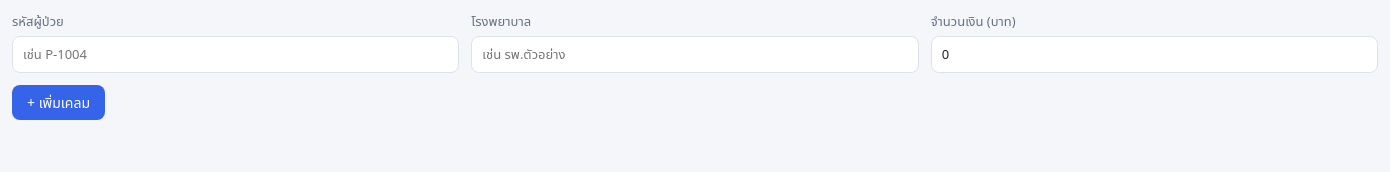
Test: ClaimForm › จำนวนเงิน 0 ไม่ผ่าน validation
In the field labelled "รหัสผู้ป่วย": (236, 54) [12,36,459,73], type "P-1"
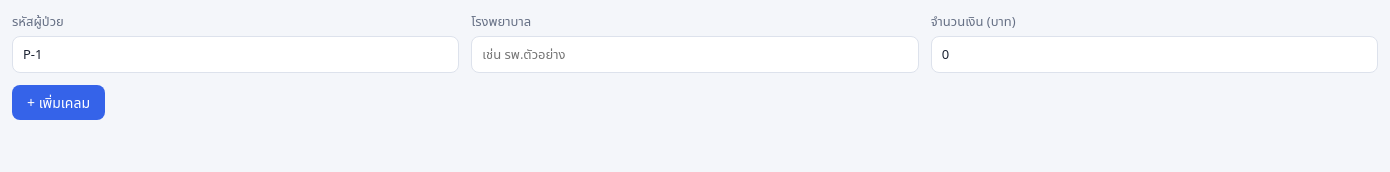
In the field labelled "โรงพยาบาล": (695, 54) [471,36,919,73], type "รพ."
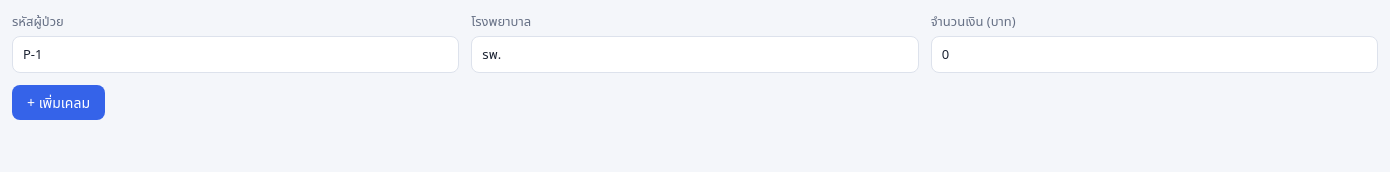
Submit the form
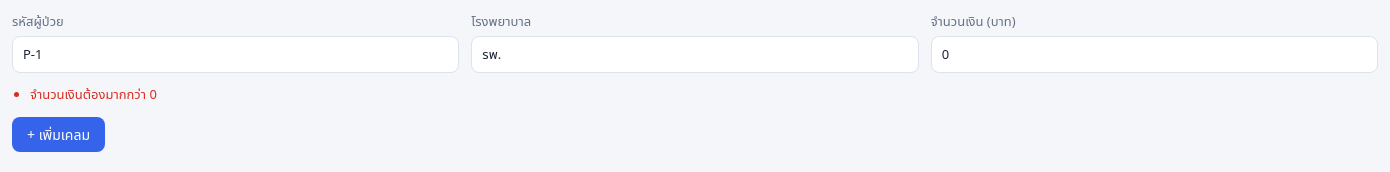
Check: the number of list items is 1, box [30,85,157,103]
